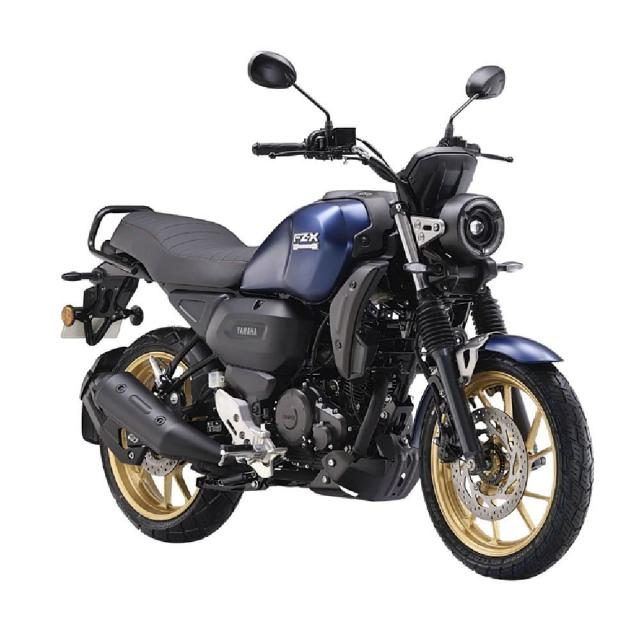Bike: (59, 117, 596, 585)
